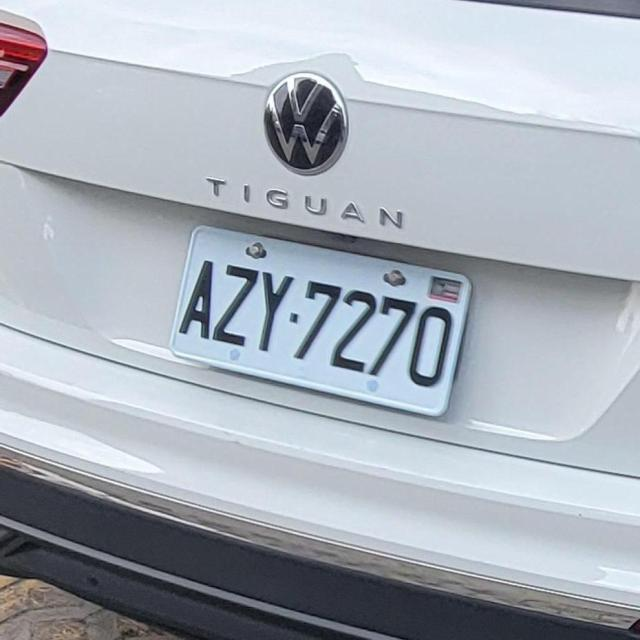W: (156, 216, 480, 413)
